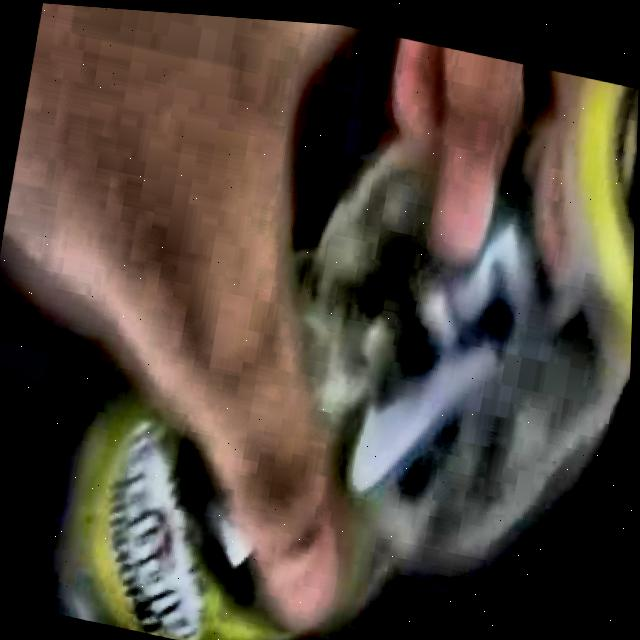plastic: (295, 71, 639, 609), (69, 396, 284, 640)
